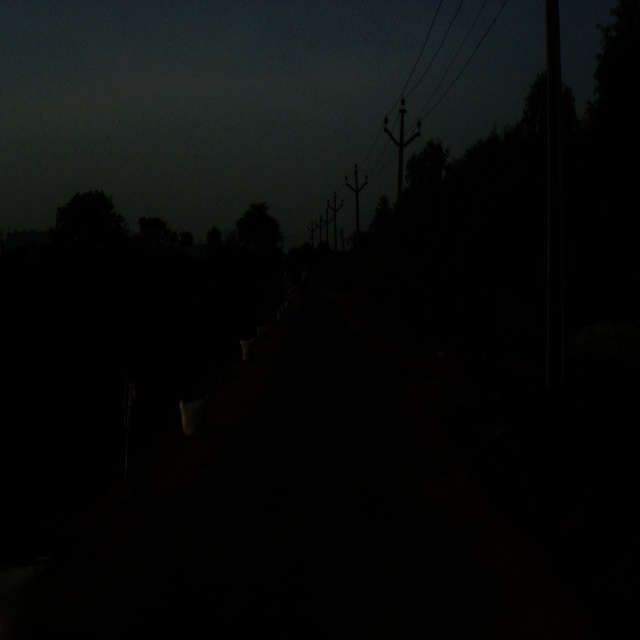Pothole: (364, 461, 478, 534), (368, 350, 404, 383)
